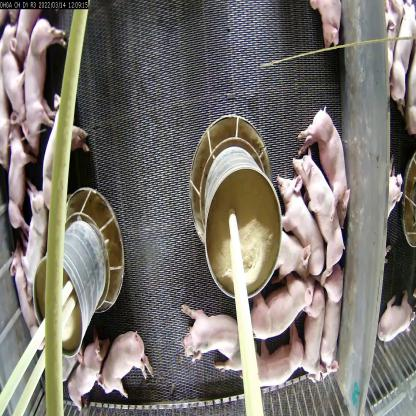Pig: (290, 147, 349, 277), (13, 12, 67, 140), (301, 98, 353, 227), (38, 83, 92, 197), (270, 166, 326, 274), (176, 294, 238, 366), (241, 328, 309, 392), (245, 268, 304, 333), (317, 267, 347, 384), (1, 131, 35, 227), (101, 328, 151, 392), (0, 15, 32, 114), (60, 335, 102, 403), (8, 245, 37, 343), (302, 277, 326, 389), (24, 186, 48, 291), (268, 225, 314, 275)
